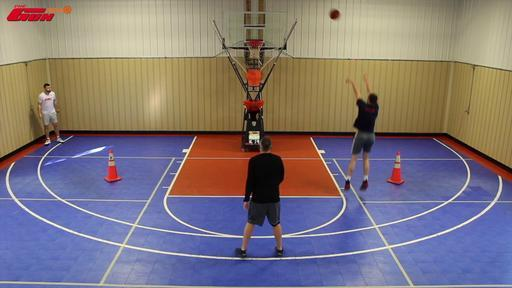ball: (328, 8, 340, 20)
human: (234, 136, 286, 257), (346, 75, 380, 191), (38, 83, 66, 146)
rim: (243, 40, 265, 58)
